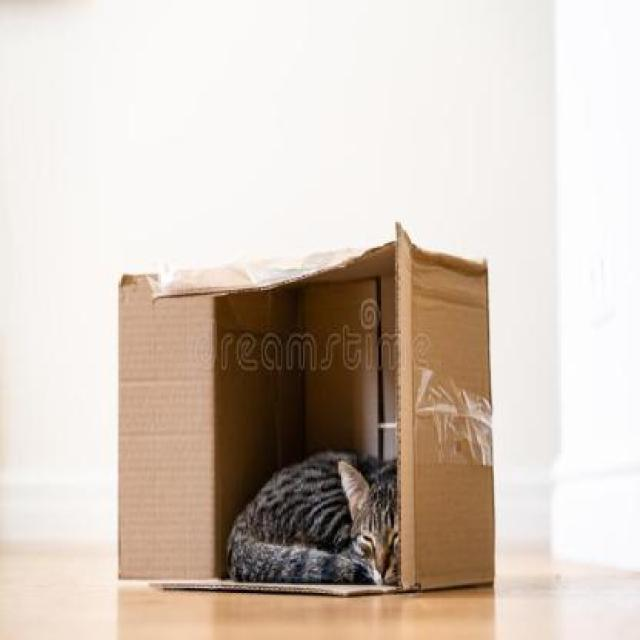box: (99, 230, 519, 632)
